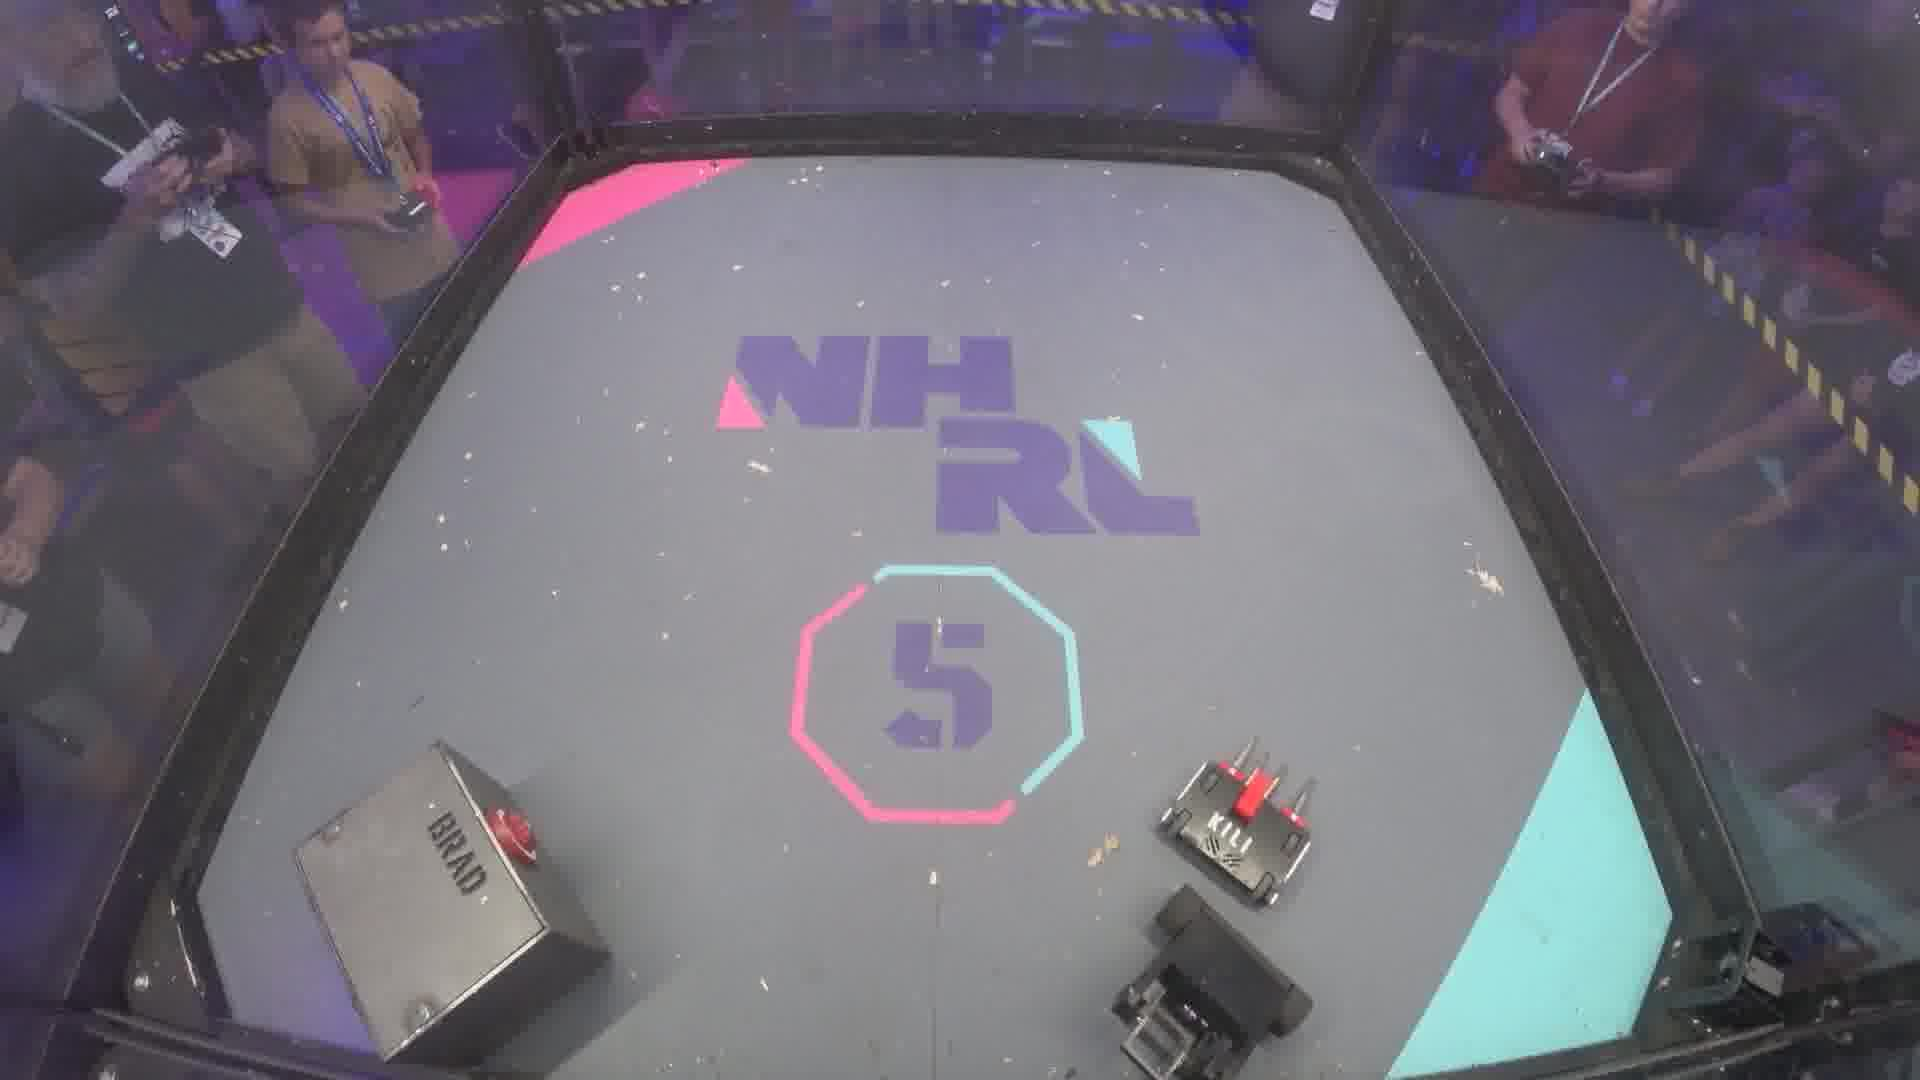combatbot: (1109, 887, 1312, 1077), (1154, 736, 1315, 906)
housebot: (290, 744, 612, 1069)
